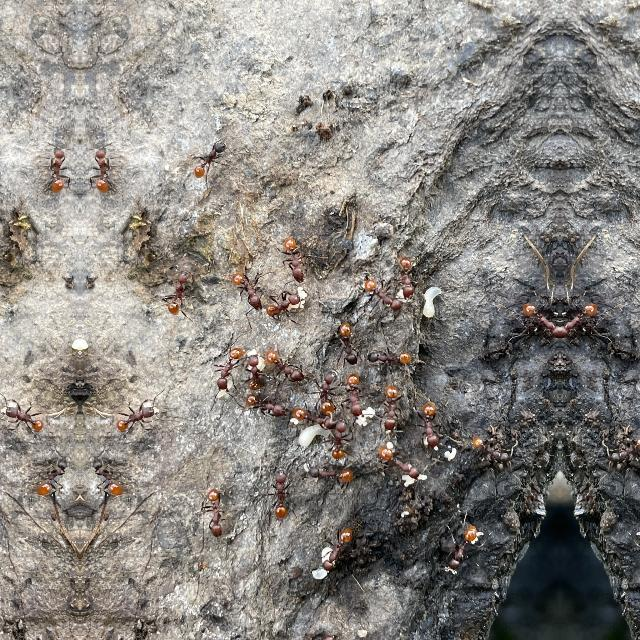Apheanogaster: (311, 518, 363, 590), (517, 288, 559, 352), (561, 288, 603, 352), (374, 437, 424, 487), (467, 423, 515, 475), (112, 392, 162, 441), (86, 452, 128, 510), (32, 452, 74, 510), (0, 390, 48, 440), (442, 519, 481, 579), (188, 134, 230, 186), (200, 476, 232, 544), (264, 342, 308, 388), (226, 262, 264, 314), (362, 272, 404, 318), (162, 264, 195, 322), (604, 423, 640, 475), (268, 462, 296, 528), (210, 340, 243, 396), (280, 228, 310, 286), (413, 396, 442, 456), (364, 340, 414, 372), (308, 462, 357, 493), (379, 379, 405, 437), (88, 140, 114, 198), (46, 140, 72, 198), (288, 402, 334, 434), (264, 286, 304, 322), (394, 251, 420, 305), (316, 363, 342, 417), (342, 366, 366, 420), (241, 346, 263, 404), (336, 320, 360, 370), (328, 416, 352, 464)
